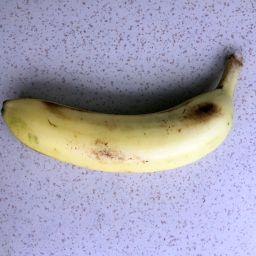Banana Ripe: (0, 43, 253, 199)
